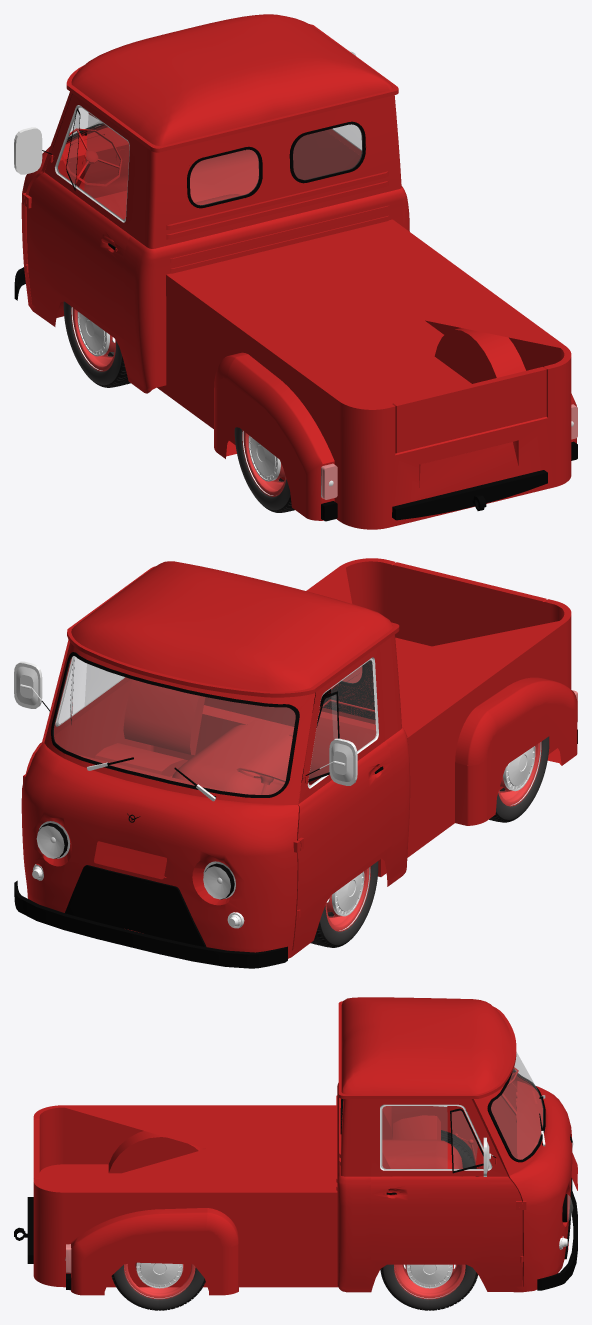
3 views of the same model, one above another, from view 1: azimuth 30°, elevation 25°; view 2: azimuth 150°, elevation 25°; view 3: azimuth 270°, elevation 25° (orthographic). The views are drawn at different scales.
Parts seen in each view (by area): view 1: Geode; view 2: Geode; view 3: Geode.
Part boxes in pixels (bbox=[...]): Geode: bbox=[14, 14, 577, 529]; Geode: bbox=[14, 558, 577, 968]; Geode: bbox=[14, 997, 577, 1310].
Size of the model in its own units: 2.05 by 1.75 by 3.72.
